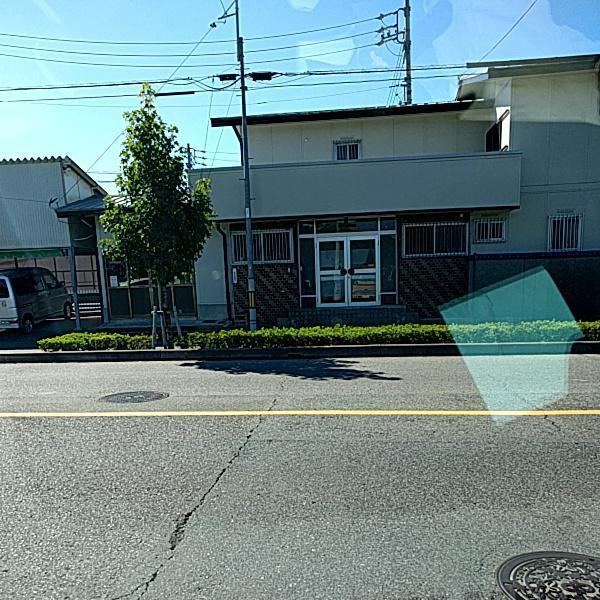D50: (482, 541, 598, 599), (99, 383, 167, 405)
